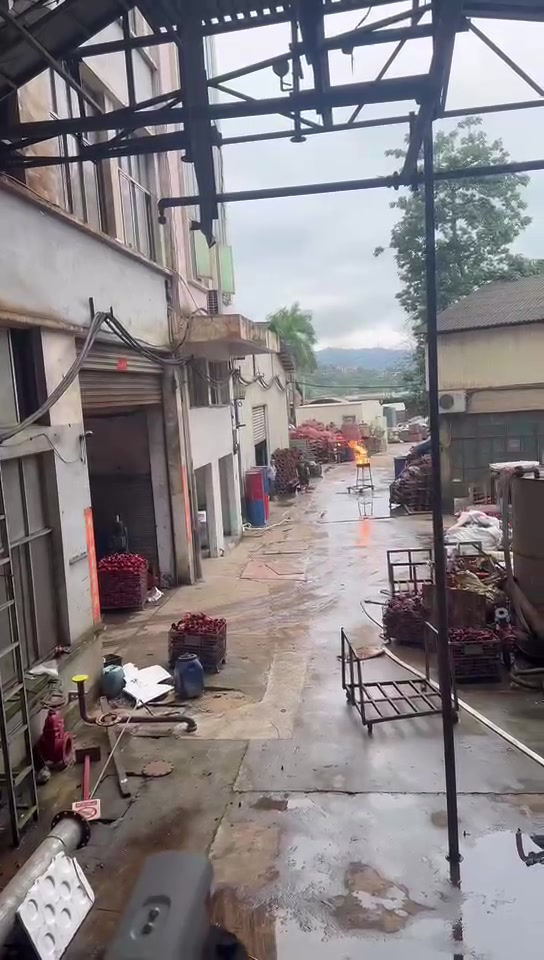fire: (347, 440, 368, 463)
